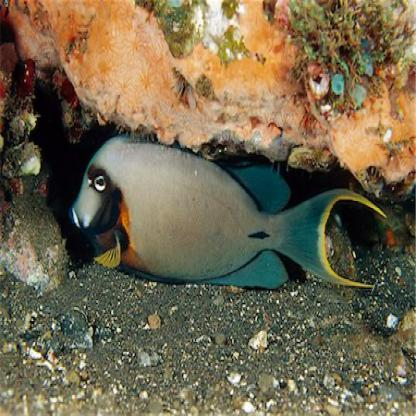surgeon: (66, 127, 393, 307)
